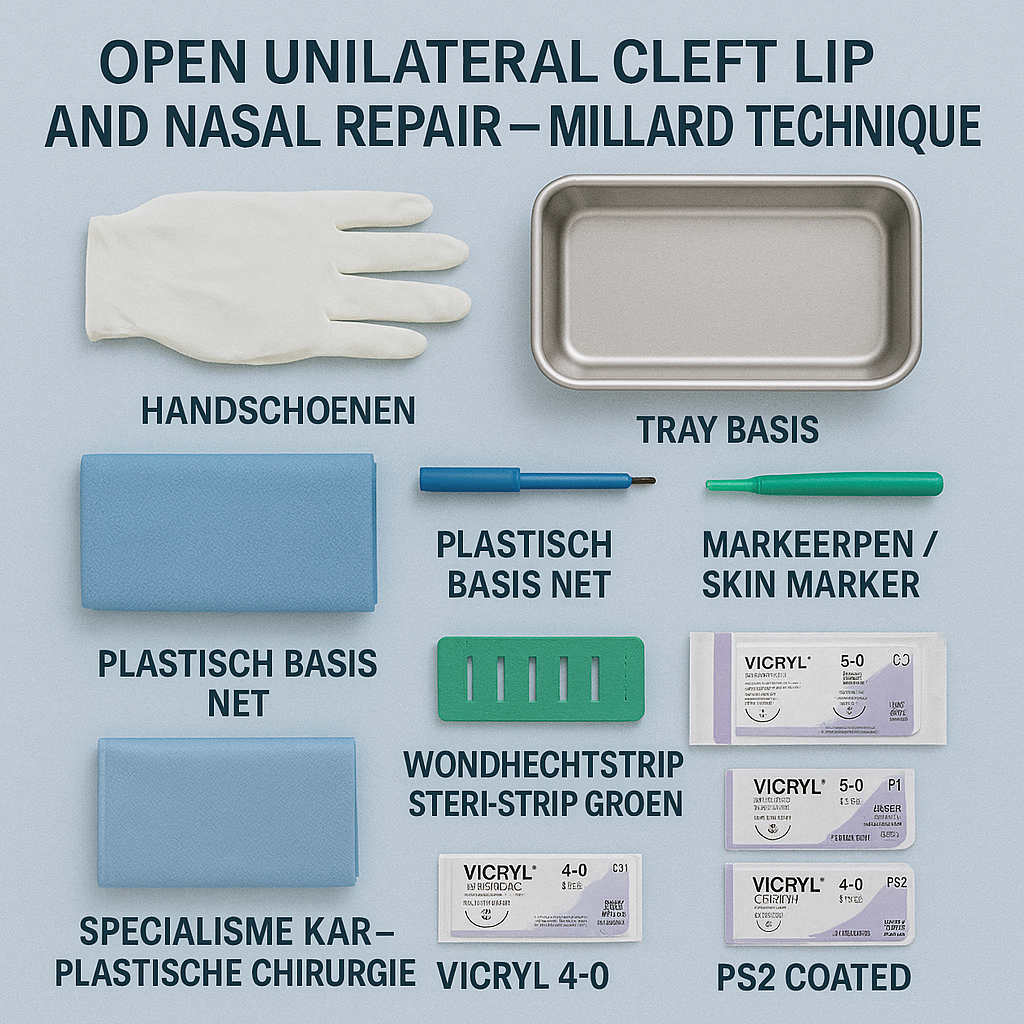handschoenen: (73, 186, 474, 372)
markeerpen / skin marker: (699, 461, 950, 513)
plastisch basis net: (78, 438, 386, 622), (413, 454, 675, 502)
specialisme kar - plastische chirurgie: (87, 735, 368, 901)
tray basis: (517, 164, 950, 400)
vicryl 4-0 ps2 coated: (428, 845, 649, 949), (718, 855, 922, 944)
vicryl 5-0 p1 coated: (679, 623, 954, 752), (715, 760, 918, 851)
wondhechtstrip steri-strip groen: (428, 633, 657, 727)
